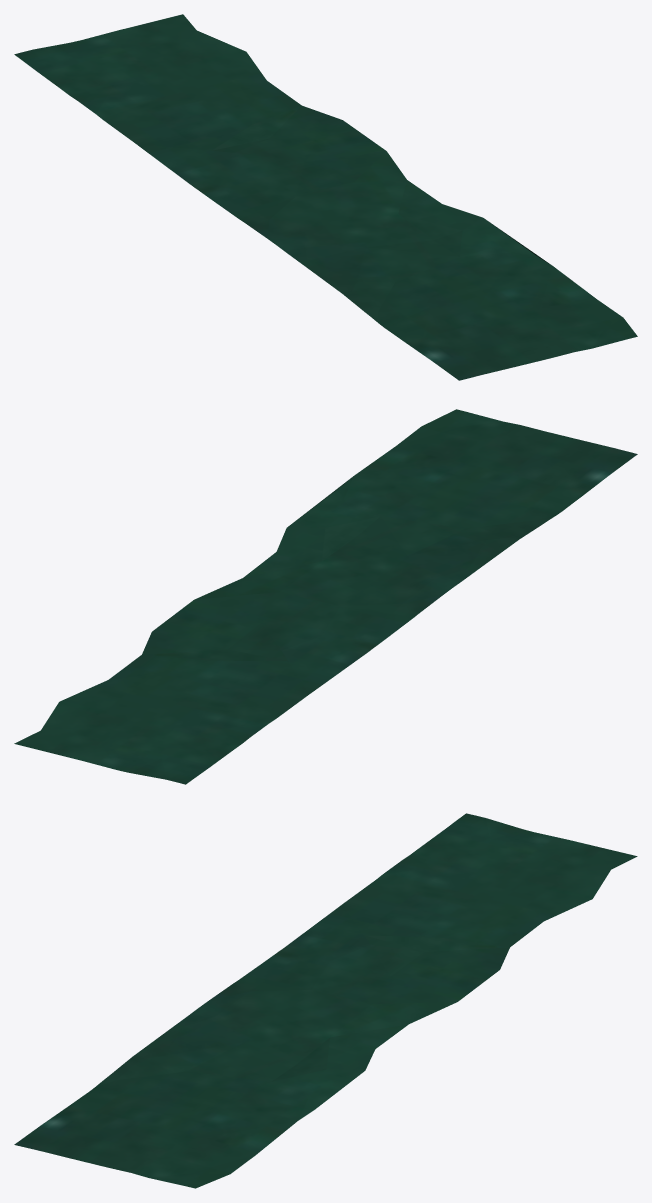
3 views of the same model, one above another, from view 1: azimuth 30°, elevation 25°; view 2: azimuth 150°, elevation 25°; view 3: azimuth 330°, elevation 25° (orthographic).
Size of the model in its own units: 12.78 by 0.2702 by 52.22.
1 material, 1 textured.
